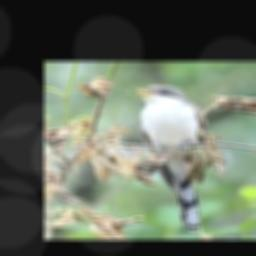Cuckoo: (127, 84, 207, 232)
